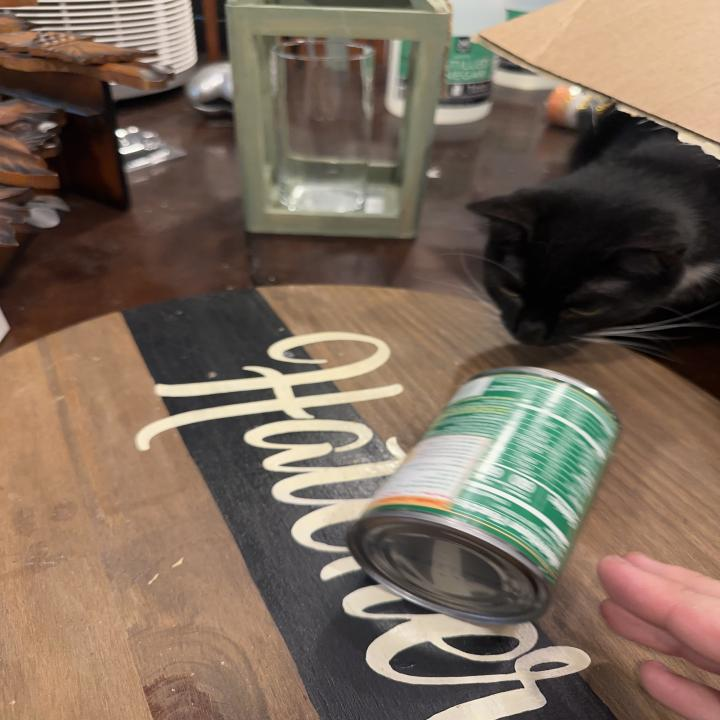Canned-Corn: (334, 362, 629, 622)
